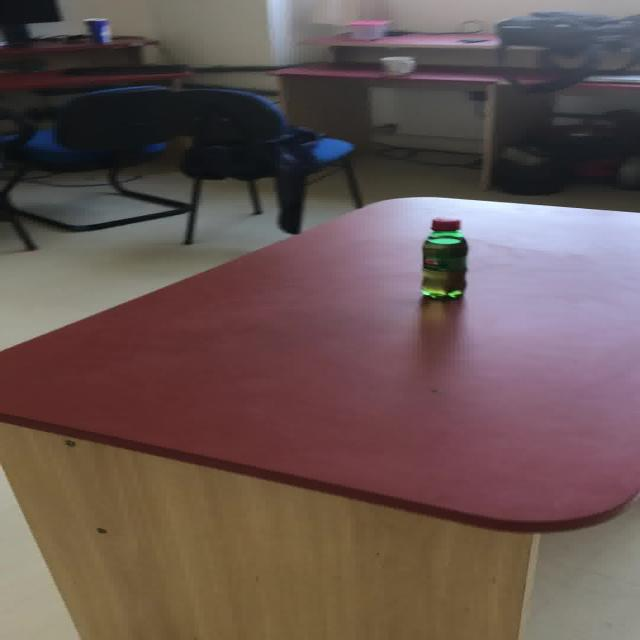guarana: (418, 216, 467, 300)
